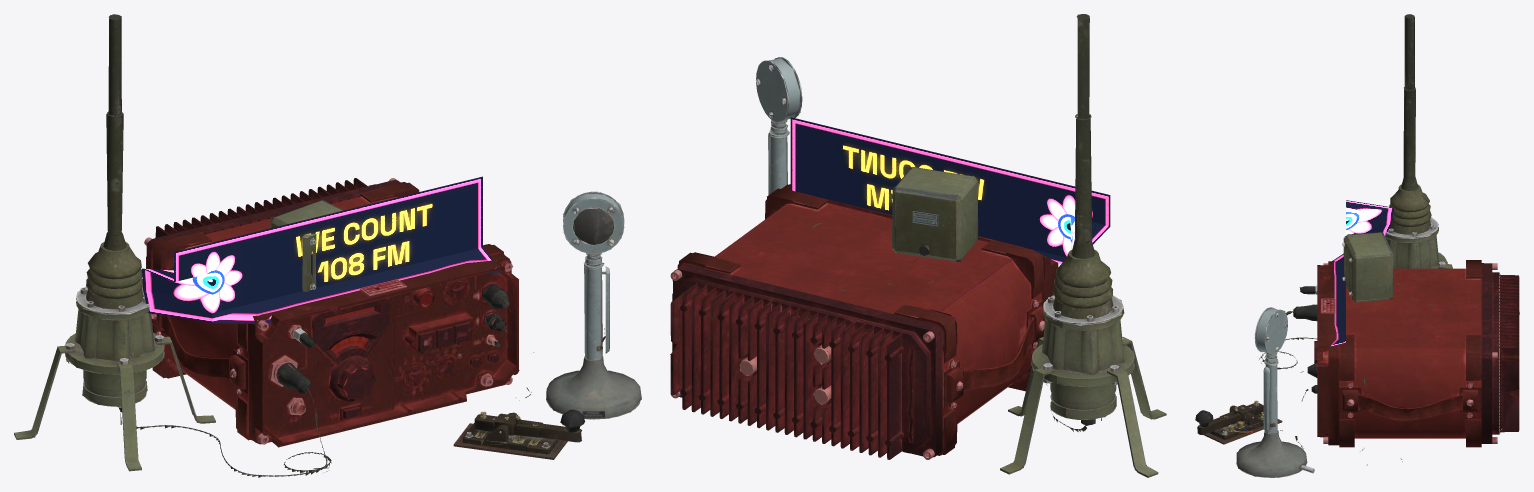
Rendered from nyb_heat_radio.glb.
3 views of the same model, side by side, from view 1: azimuth 30°, elevation 25°; view 2: azimuth 150°, elevation 25°; view 3: azimuth 270°, elevation 25° (orthographic). The views are drawn at different scales.
Visible parts, largest first — view 1: vintage_radio_transceiver, stk_lbl_1e353b394f.png; view 2: vintage_radio_transceiver, stk_lbl_1e353b394f.png; view 3: vintage_radio_transceiver, stk_lbl_1e353b394f.png.
Boxes of the visible parts, bbox=[...] form: vintage_radio_transceiver: bbox=[14, 14, 641, 477]; stk_lbl_1e353b394f.png: bbox=[142, 176, 502, 324]; vintage_radio_transceiver: bbox=[670, 14, 1166, 477]; stk_lbl_1e353b394f.png: bbox=[790, 117, 1110, 263]; vintage_radio_transceiver: bbox=[1195, 14, 1519, 477]; stk_lbl_1e353b394f.png: bbox=[1316, 200, 1393, 350].
Bounding box in the file's own units: 0.5643 × 0.4347 × 0.4136.
3 materials, 3 textured.
